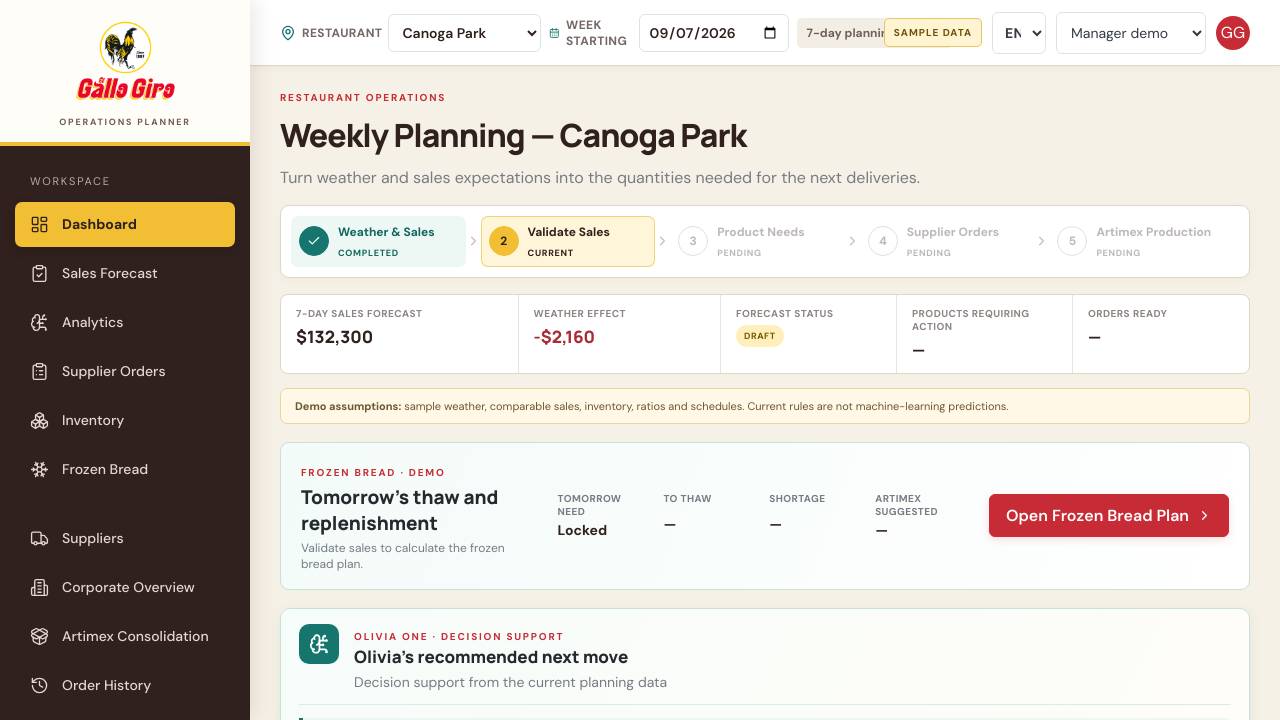
Test case: Canoga Park sequential workflow › switches the shared interface to Spanish and persists the preference
The image size is (1280, 720).
expect the heading "Weekly Planning — Canoga Park" is shown: met, box [280,113,746,157]
Select "ES" in the dropdown named "Language" at (1019, 32), box [992,12,1046,54]
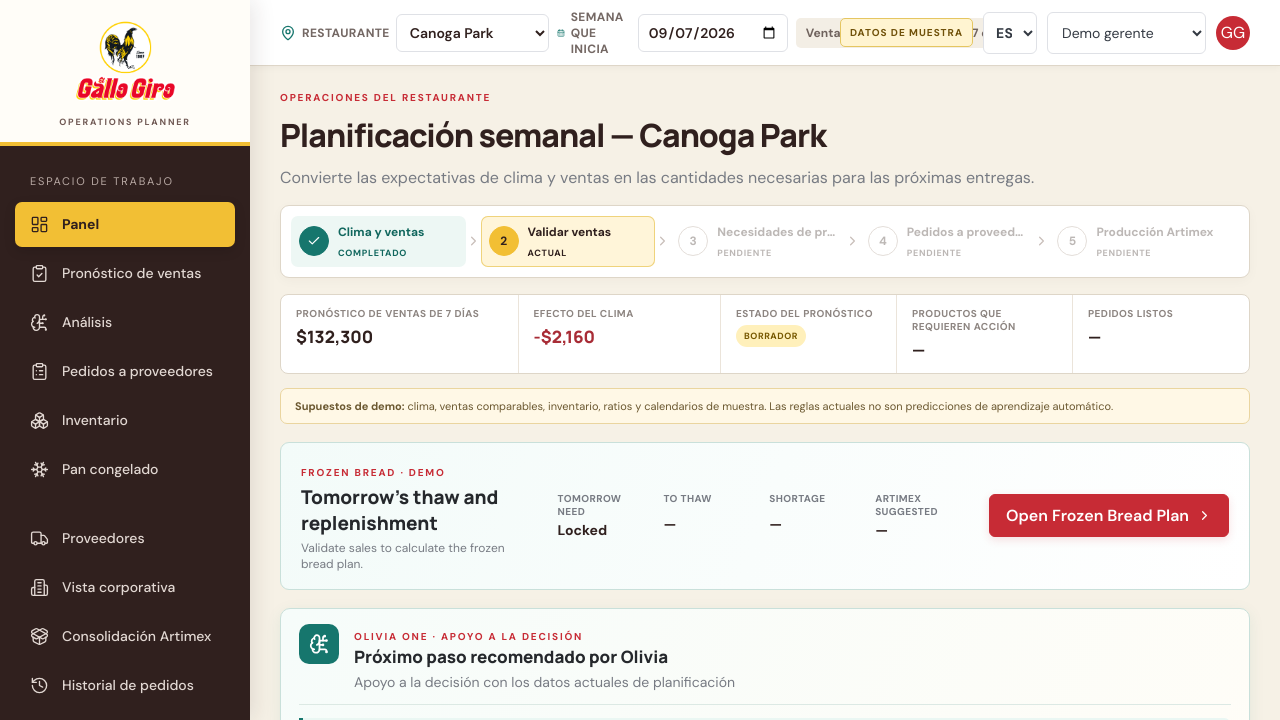
expect the heading named "Weekly Planning — Canoga Park" reads "Planificación semanal — Canoga Park": met, box [280,113,826,157]
expect the link "Pronóstico de ventas" is shown: met, box [30,264,201,283]
